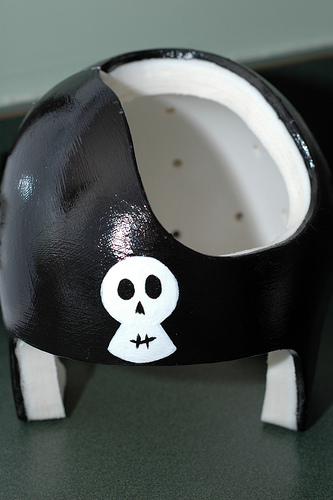helmet: (15, 64, 325, 362)
